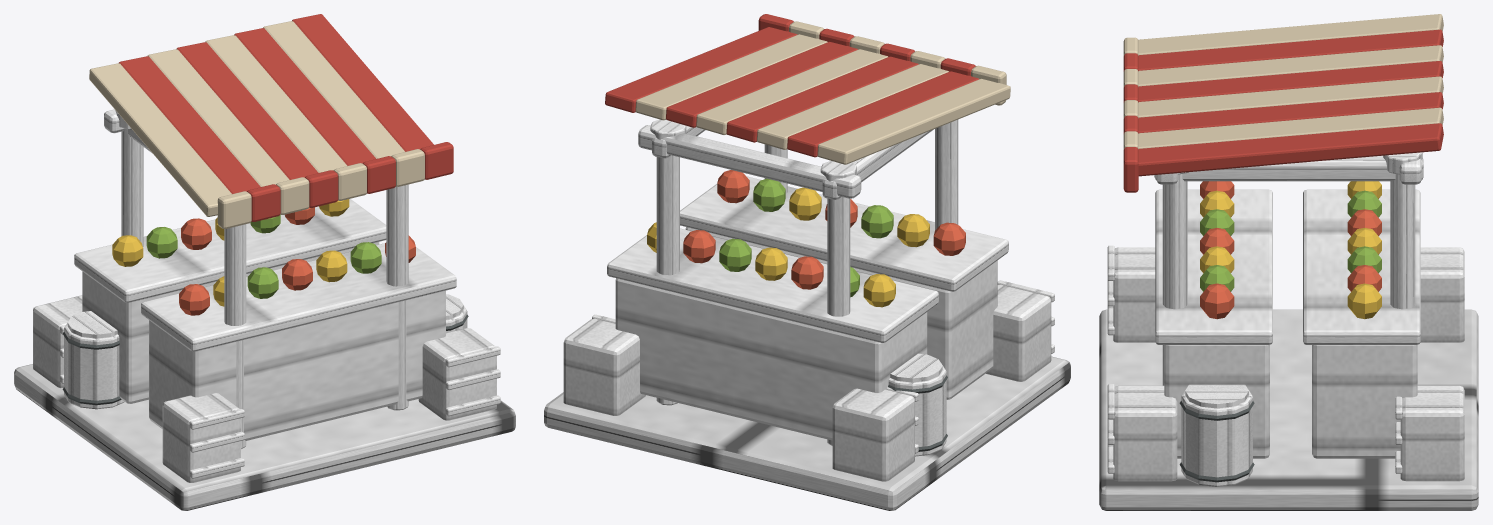
Rendered from town_market.glb.
The picture shows the model from 3 angles, left to right: view 1: azimuth 30°, elevation 25°; view 2: azimuth 150°, elevation 25°; view 3: azimuth 270°, elevation 25°; orthographic projection. The views are drawn at different scales.
Visible parts, largest first — view 1: TownMarket_Geometry; view 2: TownMarket_Geometry; view 3: TownMarket_Geometry.
Part boxes in pixels (x1,y1,x2,y2): TownMarket_Geometry: (14,14,515,510); TownMarket_Geometry: (544,14,1070,510); TownMarket_Geometry: (1099,14,1478,510).
Size of the model in its own units: 2.15 by 1.95 by 1.9.
Materials: 10 (4 with a texture image).
